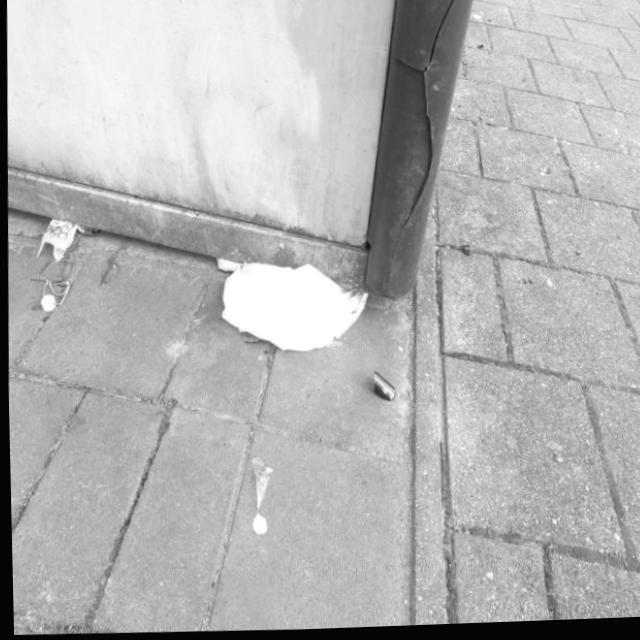Paper: (216, 257, 367, 357), (214, 256, 243, 274)
Plastic: (32, 215, 77, 263)
